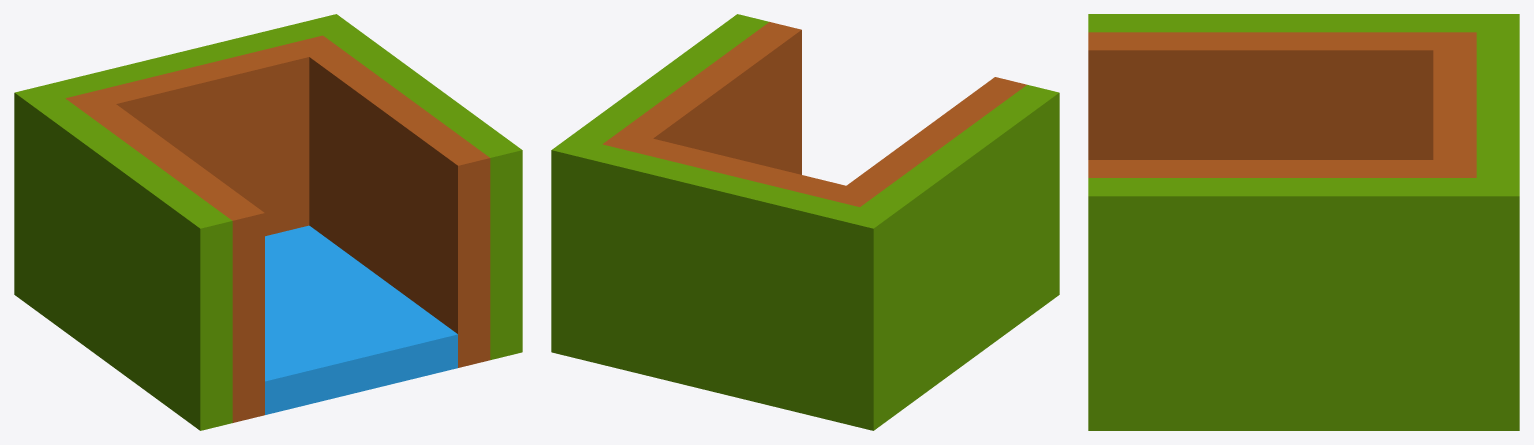
The model's file is TileWater_21.fbx.
3 views of the same model, side by side, from view 1: azimuth 30°, elevation 25°; view 2: azimuth 150°, elevation 25°; view 3: azimuth 270°, elevation 25° (orthographic). The views are drawn at different scales.
Visible parts, largest first — view 1: TileWater_21; view 2: TileWater_21; view 3: TileWater_21.
Boxes of the visible parts, x1,y1,x2,y2 form: TileWater_21: [14, 14, 522, 430]; TileWater_21: [551, 14, 1059, 430]; TileWater_21: [1088, 14, 1519, 430].
Bounding box in the file's own units: 500 × 300 × 500.
